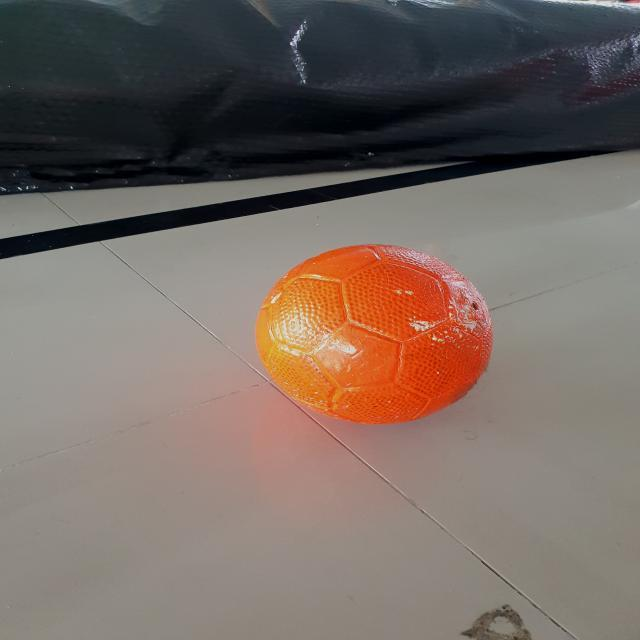bola: (237, 223, 507, 438)
